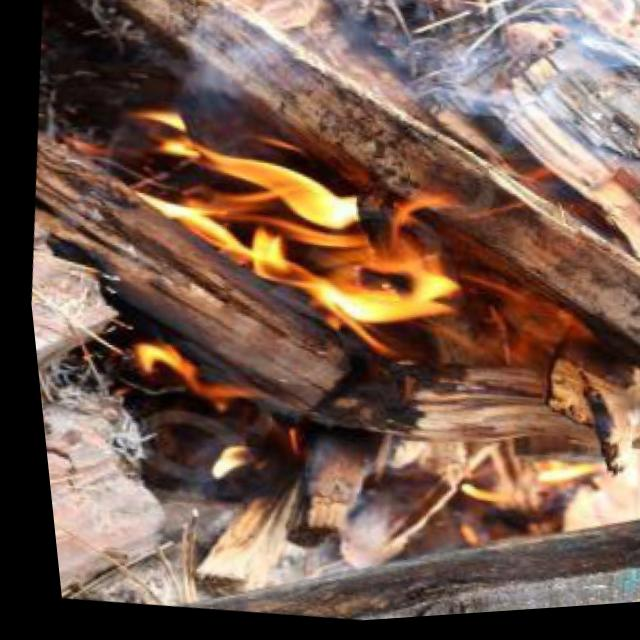Fire: (46, 78, 547, 507)
